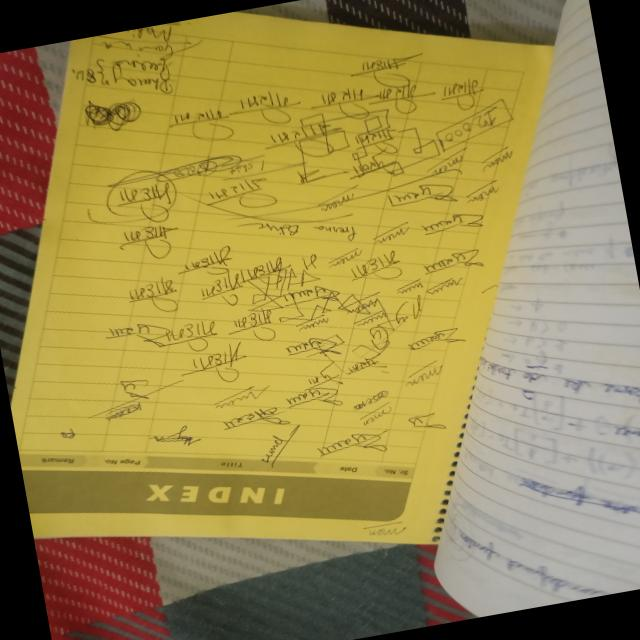notebook: (8, 5, 553, 546)
